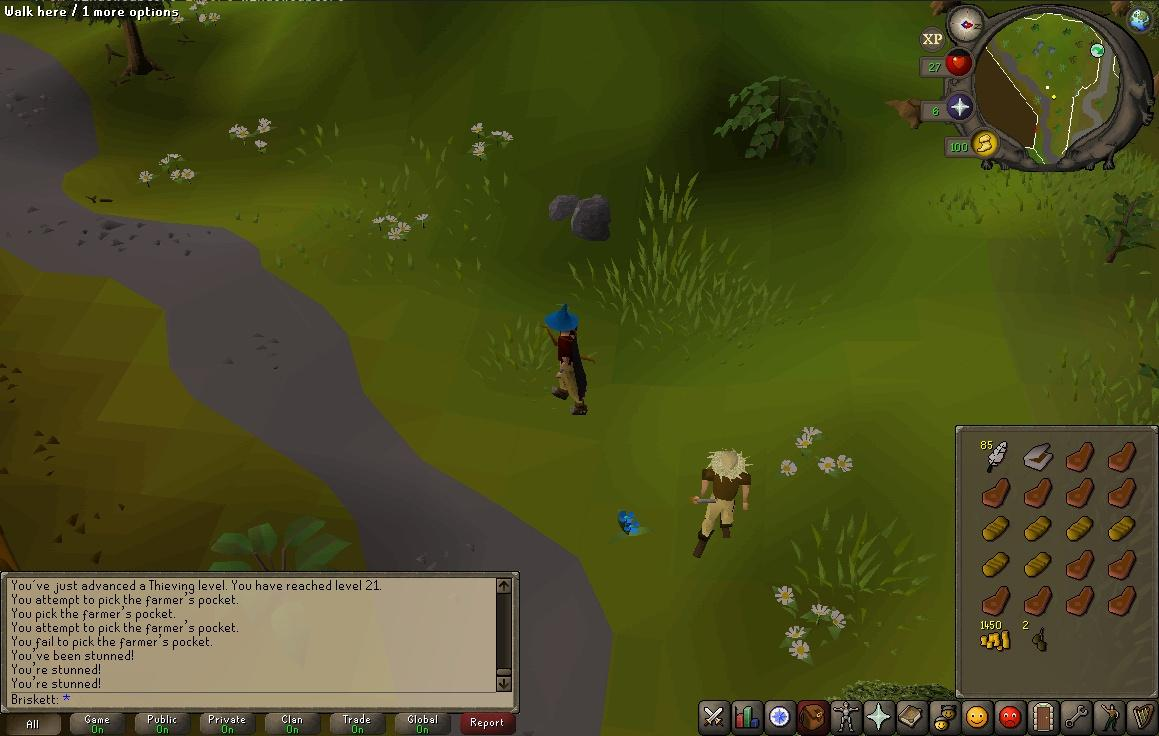Farmer: (690, 448, 752, 560)
